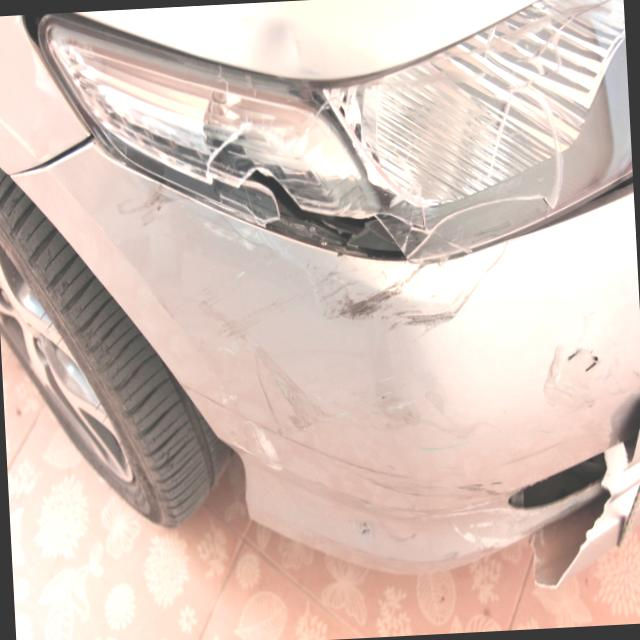Dechirure: (560, 338, 609, 392)
Phare abime: (402, 26, 637, 262), (199, 58, 409, 274)
Rayure: (168, 269, 515, 596), (317, 232, 497, 353), (113, 174, 180, 235)
